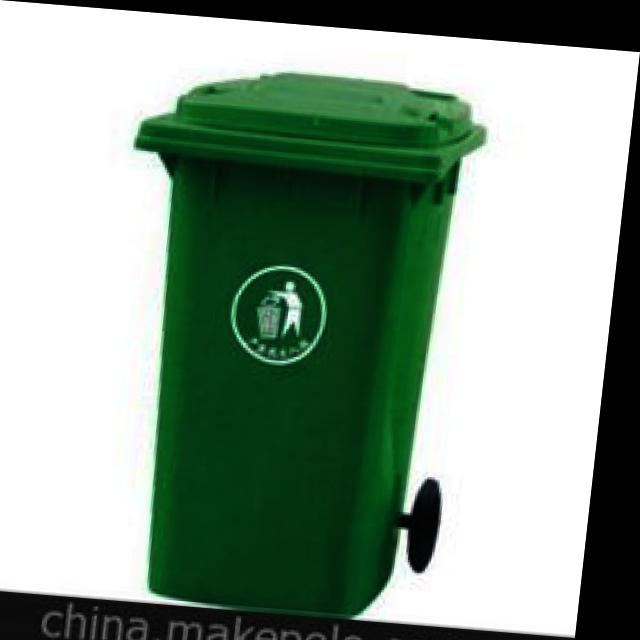garbage_bin: (95, 56, 490, 613)
